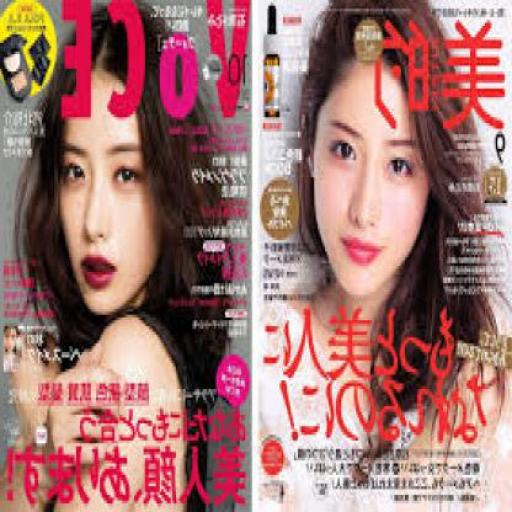paper: (2, 0, 254, 510), (261, 0, 511, 511)
